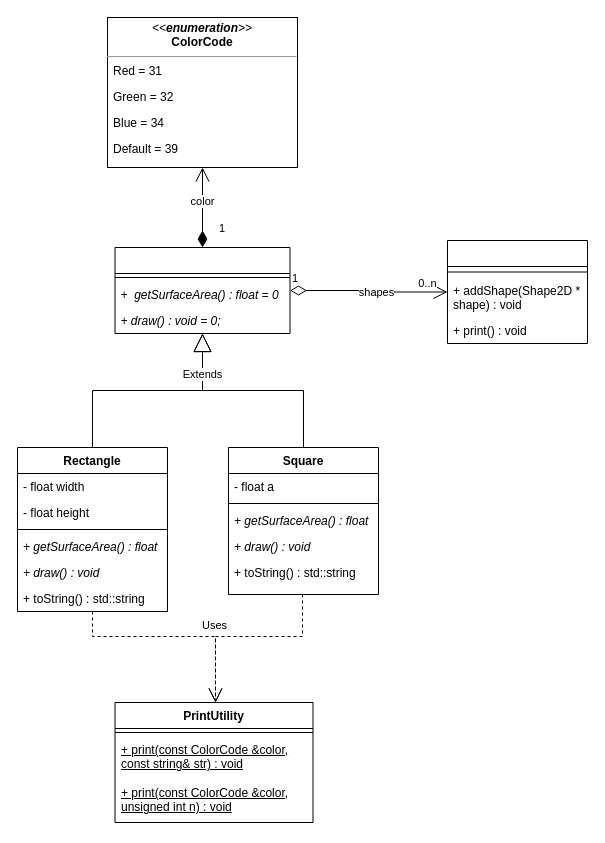
Image size: 605x843. Some labels were removed from this diagram. Here are the shapes that lost their labels. From the top down, the box of each, then its label:
(114, 246, 290, 334): Shape2D
(446, 240, 588, 344): Canvas
